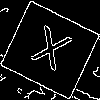X: (25, 24, 73, 82)
